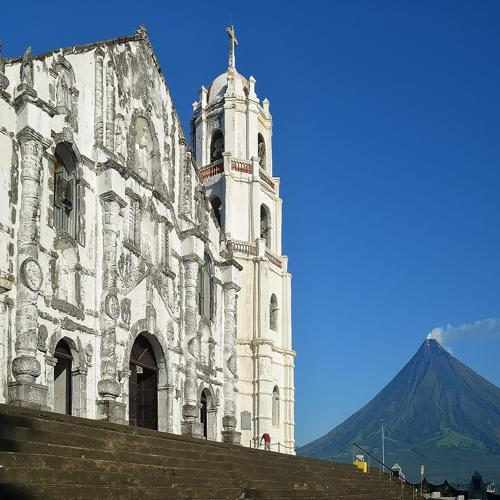Daraga Church: (3, 10, 303, 461)
